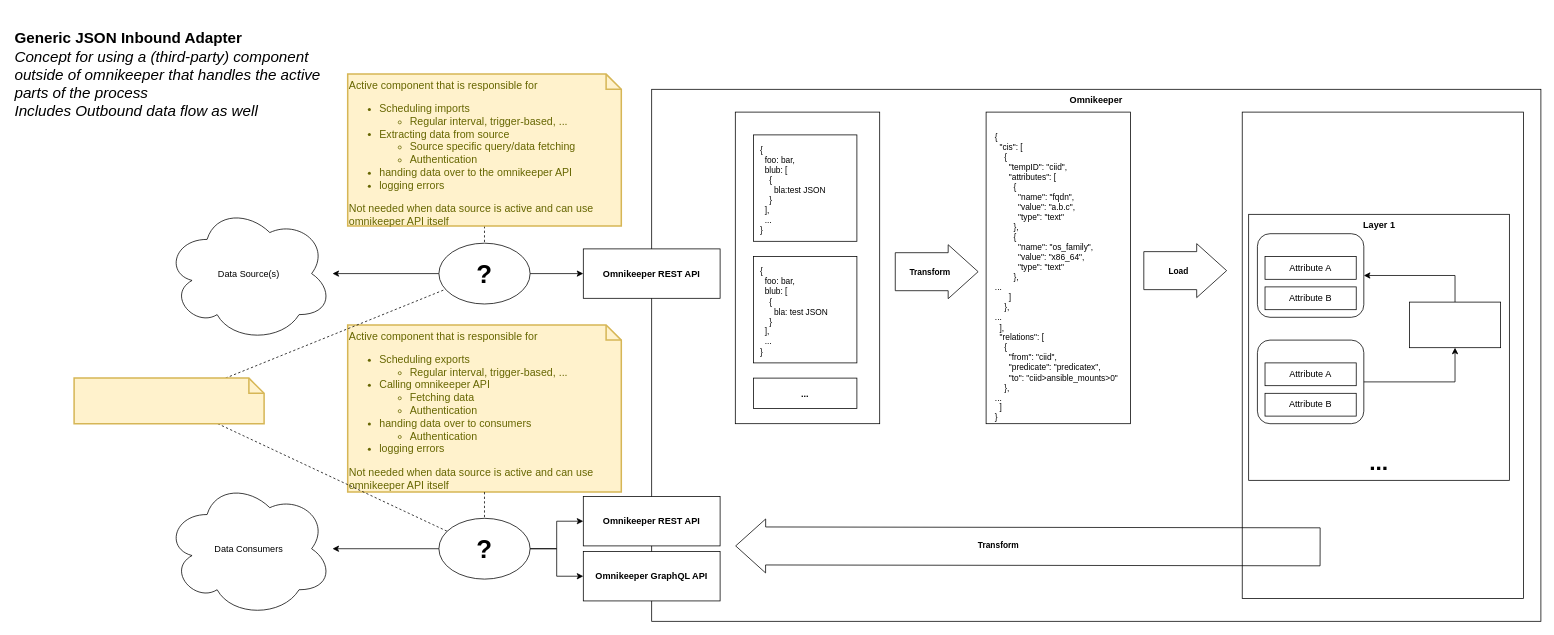
The diagram is 1554 pixels wide and 635 high, and some of its shapes have lost their labels. The shapes that lost their labels are listed below. From the top down, each one's box as (x1, y1, x2, y2) in pixels, then its label:
(735, 111, 880, 424): JSON Documents
(985, 111, 1130, 424): Prepared JSON Document
(1257, 233, 1364, 317): CI 1
(1409, 301, 1501, 348): Relation X
(1241, 111, 1523, 598): Omnikeeper Core
(73, 377, 264, 424): Third-party component, like Temporal, Airbyte, Camunda, ...
(1257, 339, 1364, 424): CI 2
